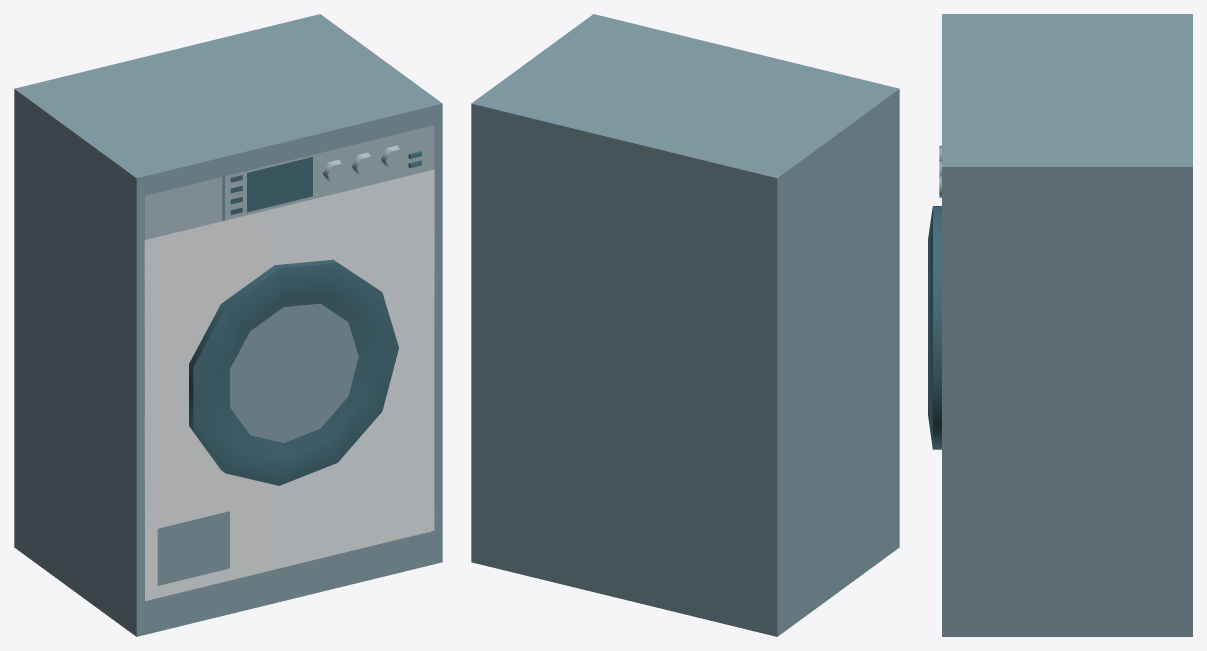
The model's file is bathroom_item_032.glb.
3 views of the same model, side by side, from view 1: azimuth 30°, elevation 25°; view 2: azimuth 150°, elevation 25°; view 3: azimuth 270°, elevation 25° (orthographic). The views are drawn at different scales.
Visible parts, largest first — view 1: bathroom_item_032; view 2: bathroom_item_032; view 3: bathroom_item_032.
Part boxes in pixels (<box>): bathroom_item_032: <box>14,14,442,636</box>; bathroom_item_032: <box>471,14,899,636</box>; bathroom_item_032: <box>928,14,1192,636</box>.
Bounding box in the file's own units: 0.7196 × 1.03 × 0.5259.
1 material, 1 textured.
